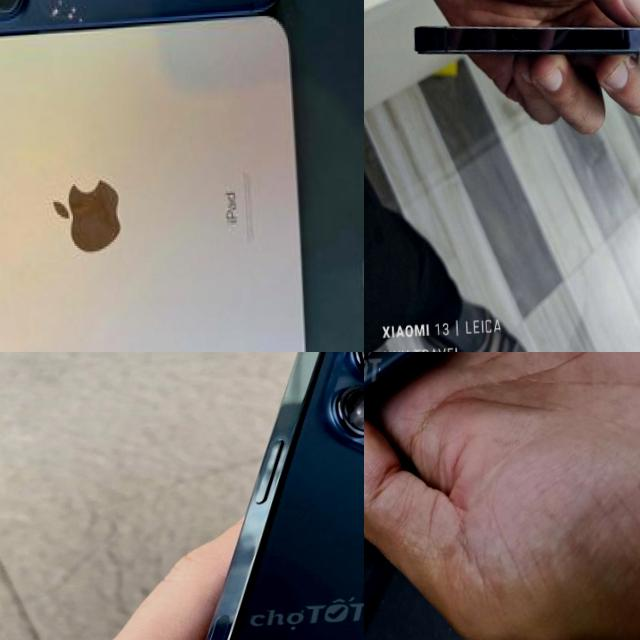gen_12_13: (112, 352, 364, 640)
gen_14: (402, 0, 640, 99)
scratch: (27, 0, 100, 40)
